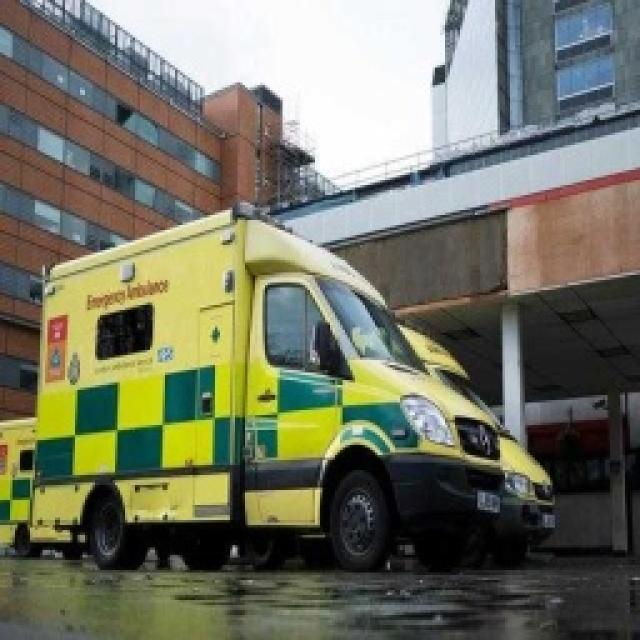emergency-vehicle: (23, 208, 506, 572)
